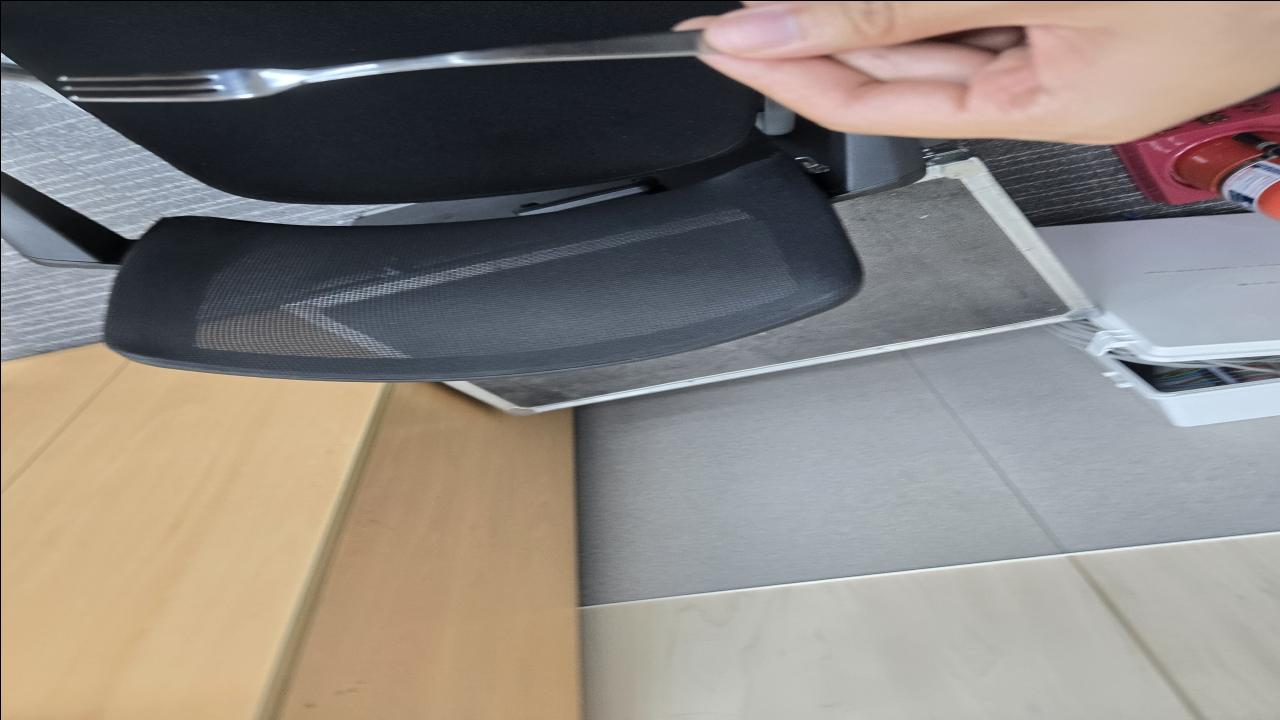fork: (50, 30, 706, 102)
